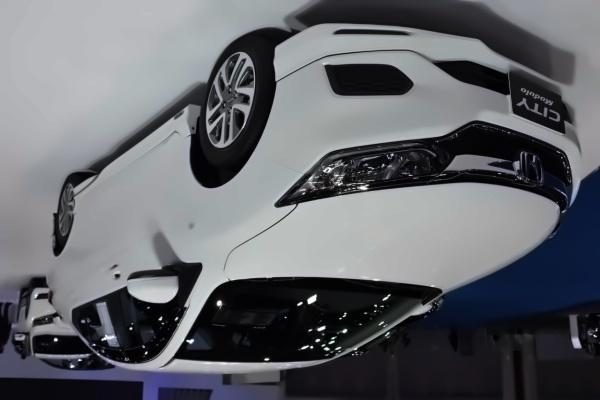Car hood: (226, 181, 567, 289)
Fender - -F-L-: (175, 91, 324, 195)
Front bumper: (270, 19, 600, 159), (273, 137, 453, 207)
Passenger-s door - -F-L-: (123, 149, 221, 364)
Passenger-s door - -R-L-: (71, 183, 135, 371)
Side bumper - -L-: (65, 100, 195, 197)
Side mirror - -L-: (113, 261, 190, 311)
